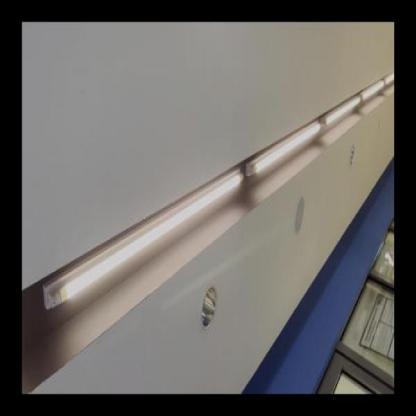light_on: (37, 166, 244, 319), (250, 116, 324, 180), (319, 92, 363, 132), (364, 76, 386, 101), (385, 73, 394, 89)
